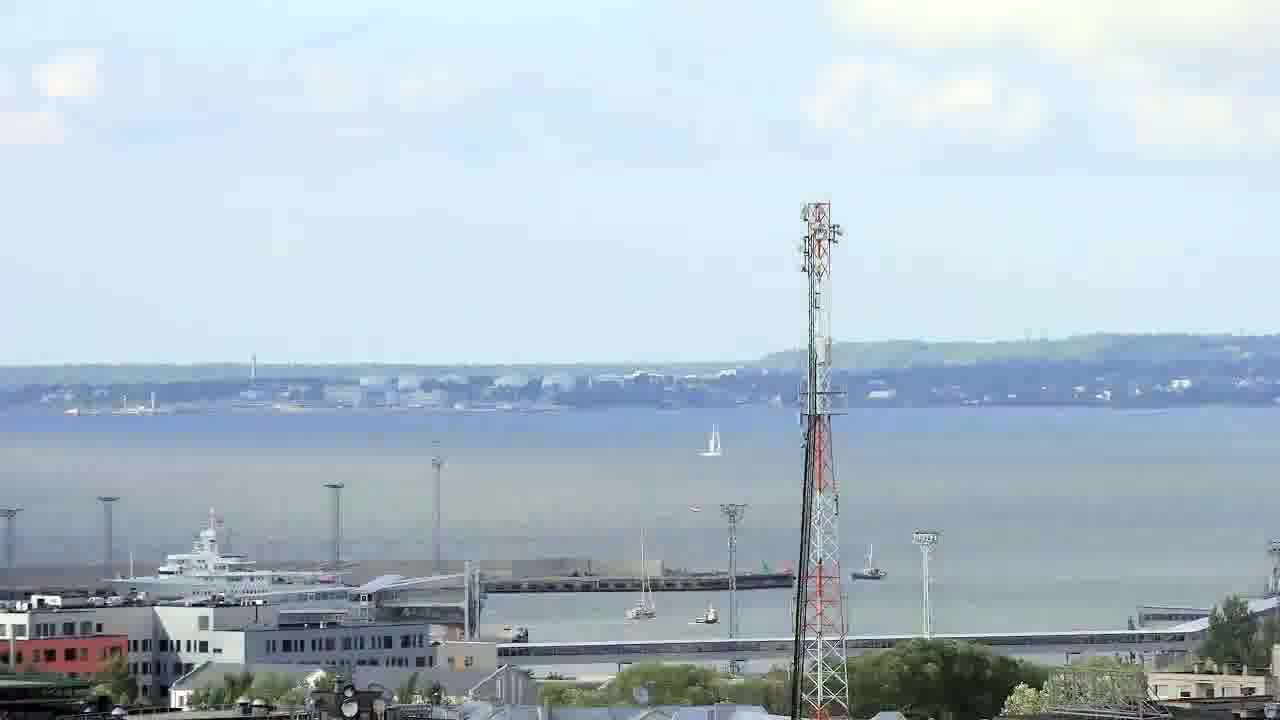type-0: (625, 546, 664, 635), (843, 539, 896, 589), (689, 597, 728, 639)
type-2: (694, 408, 739, 464)
type-3: (98, 503, 361, 603)
